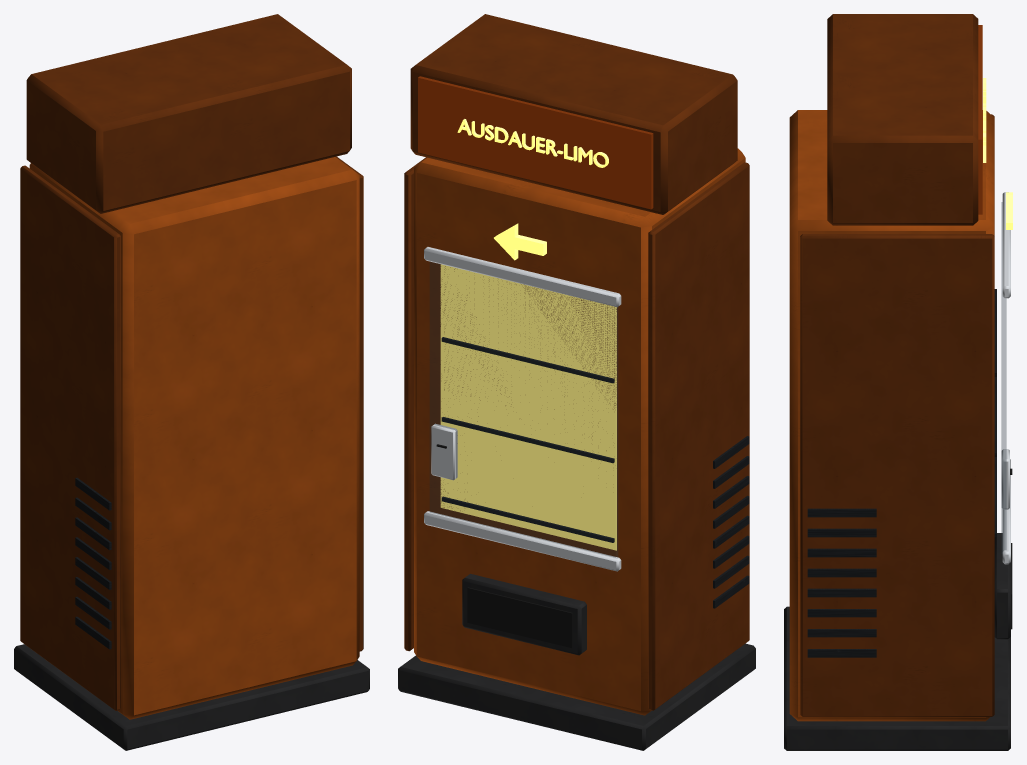
File: perk_staminup.gltf
3 views of the same model, side by side, from view 1: azimuth 30°, elevation 25°; view 2: azimuth 150°, elevation 25°; view 3: azimuth 270°, elevation 25° (orthographic).
Parts seen in each view (by area): view 1: Perk_staminup; view 2: Perk_staminup, PerkName_staminup; view 3: Perk_staminup.
Boxes of the visible parts, bbox=[...] form: Perk_staminup: bbox=[14, 14, 369, 750]; Perk_staminup: bbox=[398, 14, 755, 750]; PerkName_staminup: bbox=[457, 119, 608, 167]; Perk_staminup: bbox=[784, 14, 1012, 750].
Size of the model in its own units: 1.08 by 2.46 by 0.8275.
11 materials, 4 textured.
